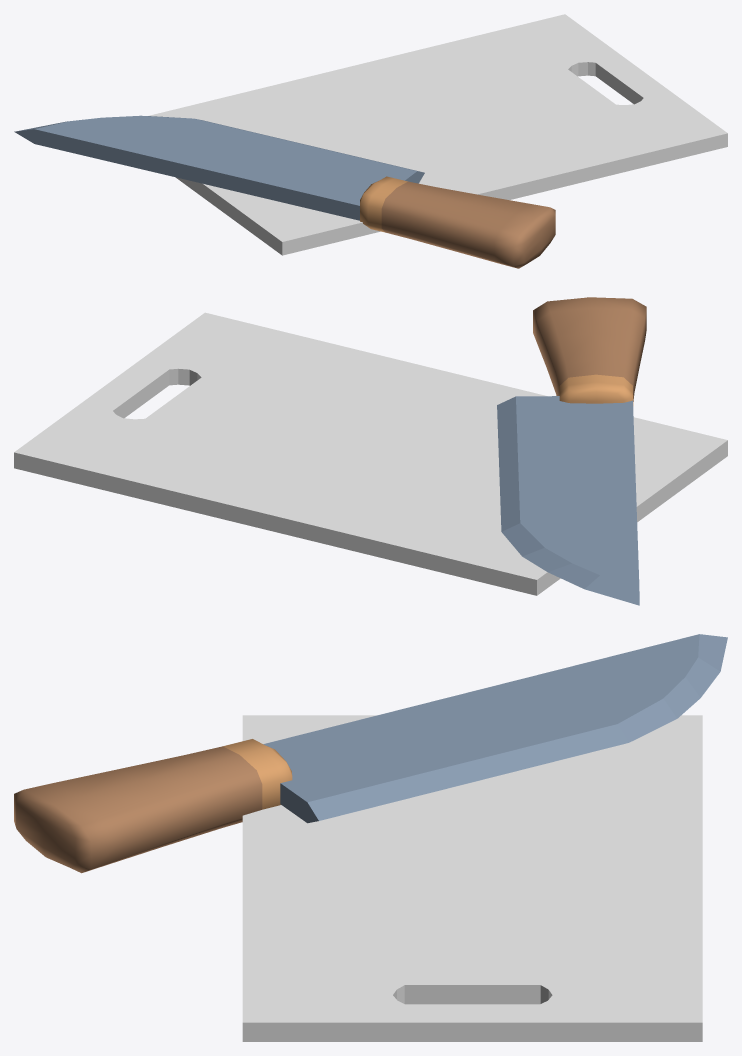
File: Chopping board.glb
3 renders of one model, top to bottom at view 1: azimuth 30°, elevation 25°; view 2: azimuth 150°, elevation 25°; view 3: azimuth 270°, elevation 25°, orthographic. The views are drawn at different scales.
Visible parts, largest first — view 1: Environment_CuttingTable; view 2: Environment_CuttingTable; view 3: Environment_CuttingTable.
Part boxes in pixels (bbox=[...]): Environment_CuttingTable: bbox=[14, 14, 727, 268]; Environment_CuttingTable: bbox=[14, 297, 727, 605]; Environment_CuttingTable: bbox=[14, 634, 727, 1041].
Size of the model in its own units: 2.1 by 0.1515 by 1.69.
Materials: 1 (1 with a texture image).
